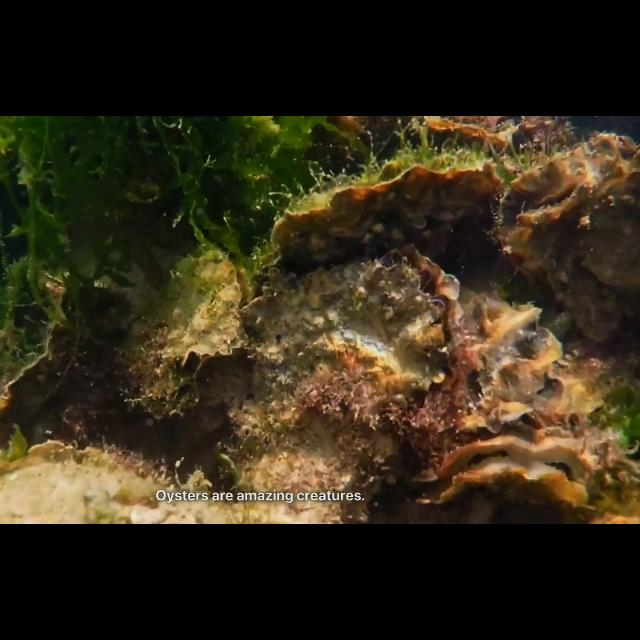Oyster-Closed: (270, 162, 502, 278), (0, 322, 136, 454)
Oyster-Open: (238, 247, 464, 523), (492, 134, 640, 346), (458, 293, 564, 435), (0, 440, 176, 524), (404, 434, 596, 511), (168, 263, 254, 379), (119, 308, 203, 422), (423, 116, 509, 156)
